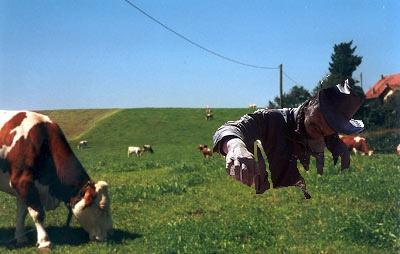tampered: (214, 76, 364, 199)
